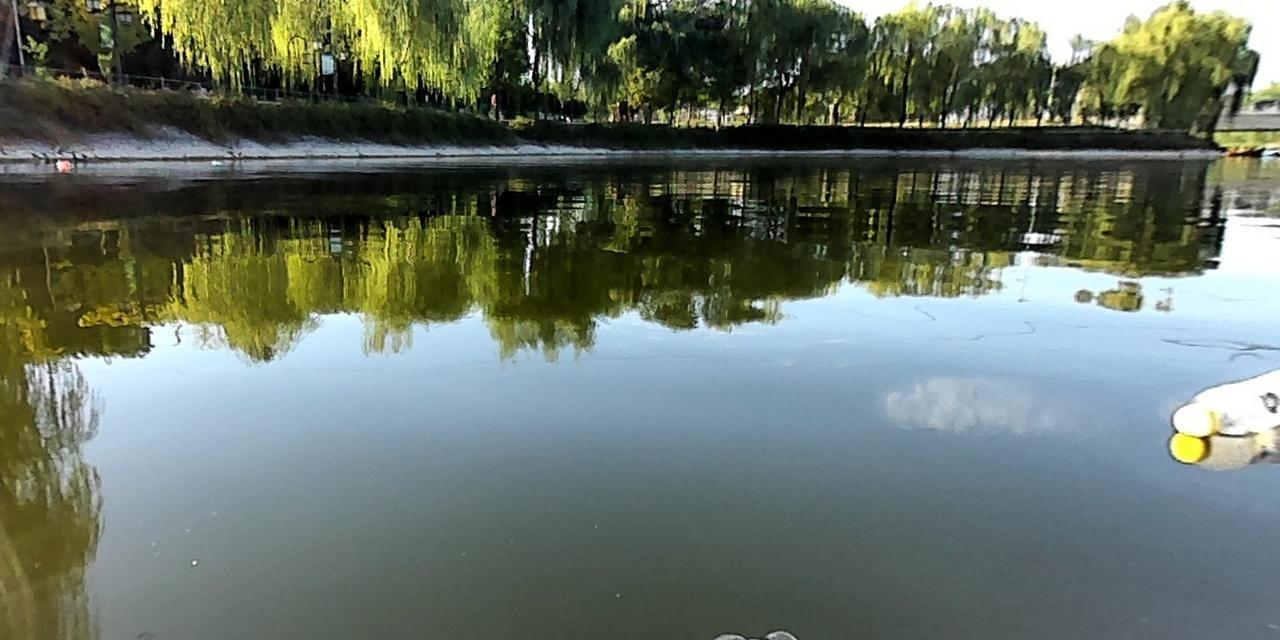bottle: (1168, 354, 1279, 439)
